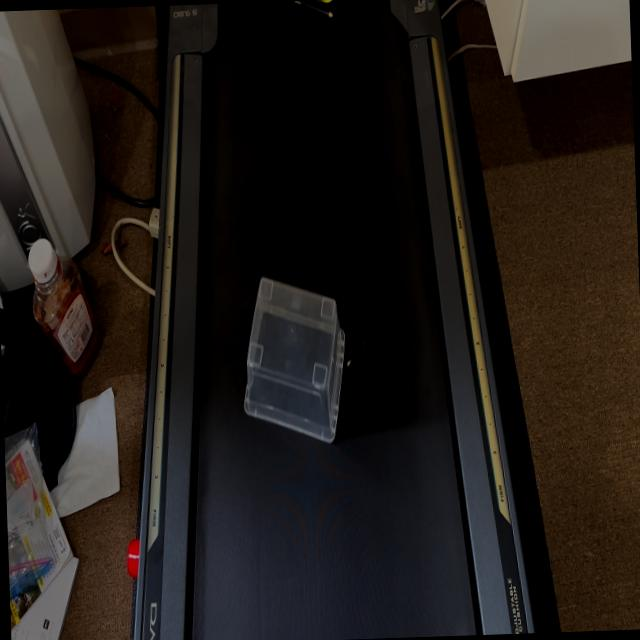Trash: (233, 272, 364, 447)
